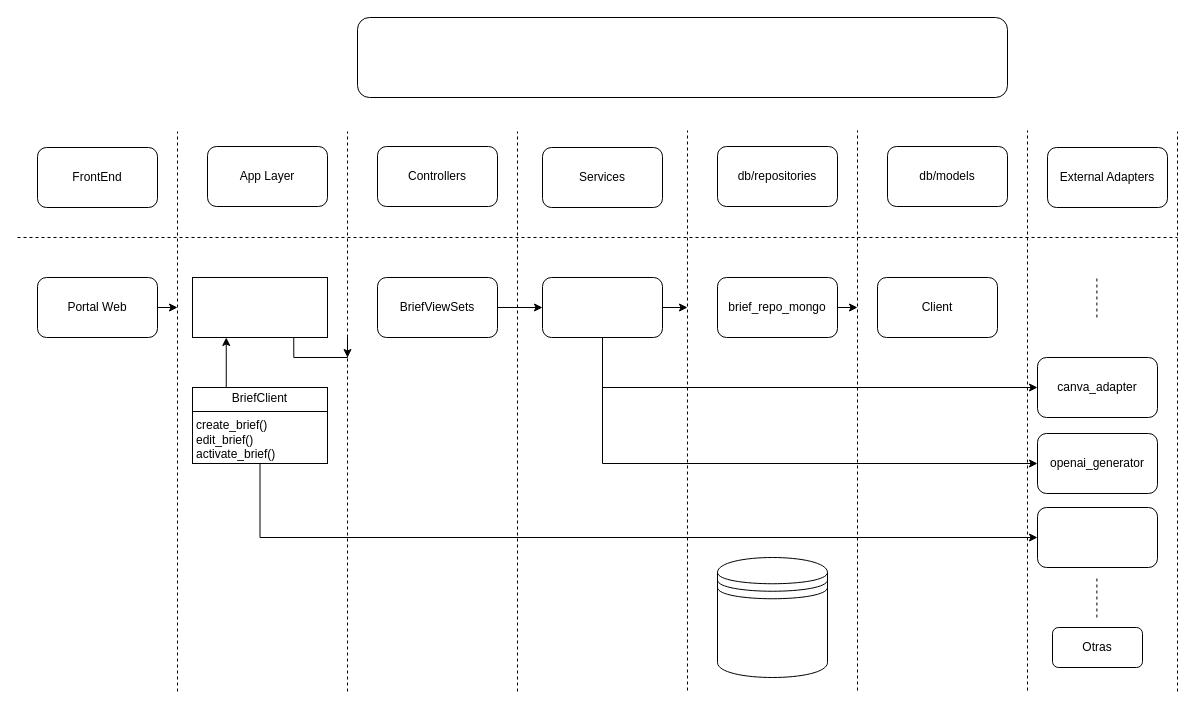
The diagram is 1196 pixels wide and 710 high, and some of its shapes have lost their labels. Each missing label, with the centre of its shape:
billing_adapter: the point at 1097,537
BriefBuilderService: the point at 602,307
CreativeBriefingFacade create_brief(): the point at 260,307
Infraestructure Layer: the point at 682,57
MongoDB: the point at 772,617
